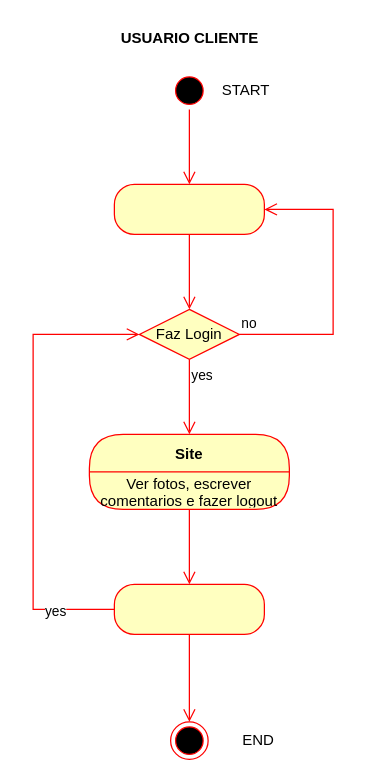
This 368x781 diagram has some shape labels left out. The shapes that lost their labels are listed below. From the top down, each one's box as (x1, y1, x2, y2) in pixels, then its label:
(113, 183, 264, 234): Cadastra Senha
(113, 583, 264, 634): Faz LogOut
